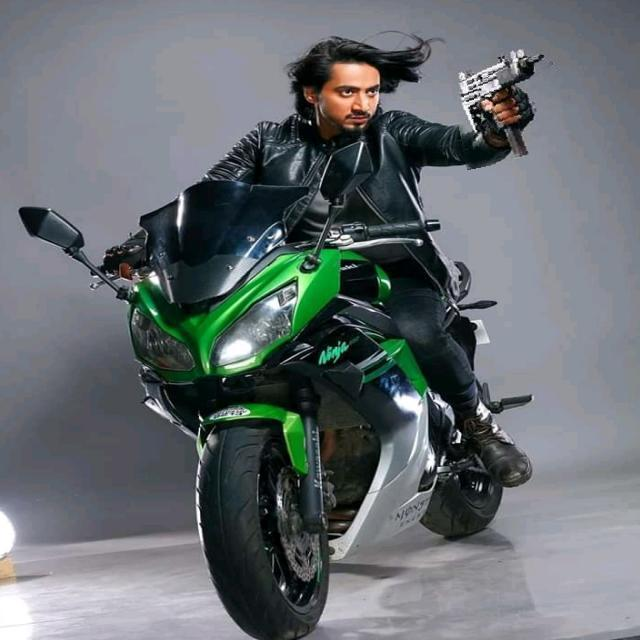Handgun: (451, 45, 567, 166)
